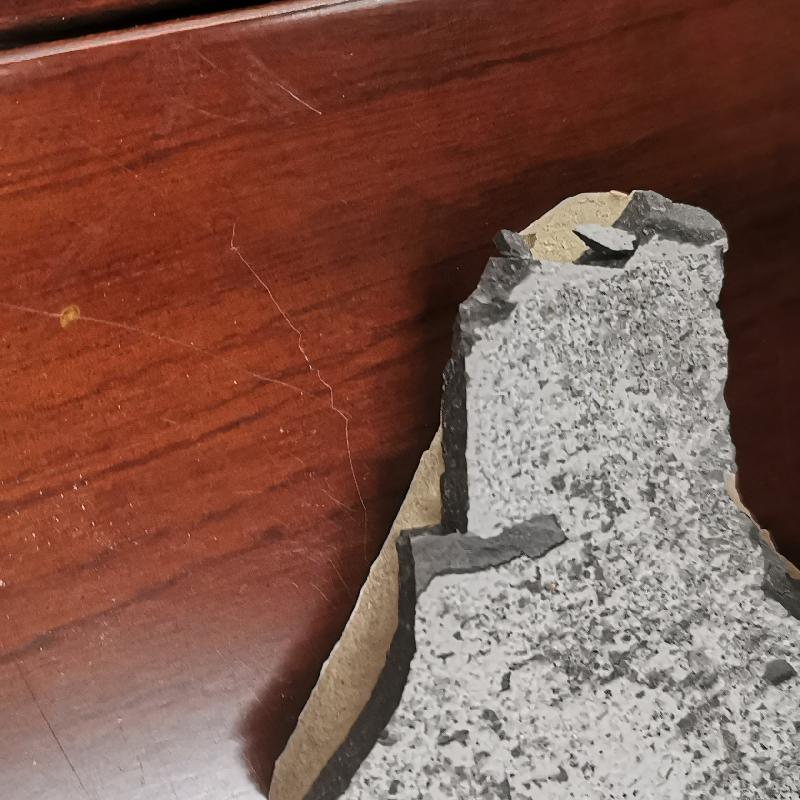tile: (255, 185, 799, 799)
